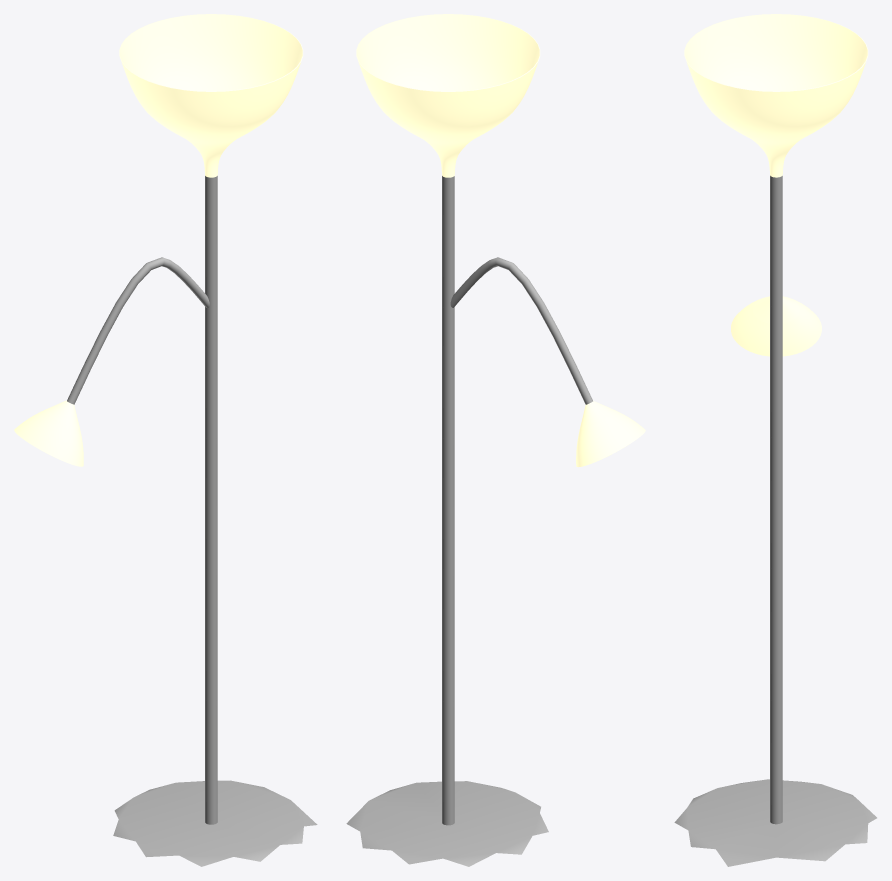
The model's file is IKEA-NOT_Lampadaire_variante_2-3D.FBX.
3 views of the same model, side by side, from view 1: azimuth 30°, elevation 25°; view 2: azimuth 150°, elevation 25°; view 3: azimuth 270°, elevation 25° (orthographic).
Parts seen in each view (by area): view 1: Rectangle002; view 2: Rectangle002; view 3: Rectangle002.
Part boxes in pixels (x1,y1,x2,y2): Rectangle002: (14, 14, 317, 866); Rectangle002: (346, 14, 645, 866); Rectangle002: (674, 14, 876, 866).
Size of the model in its own units: 0.7348 by 0.4773 by 2.01.
